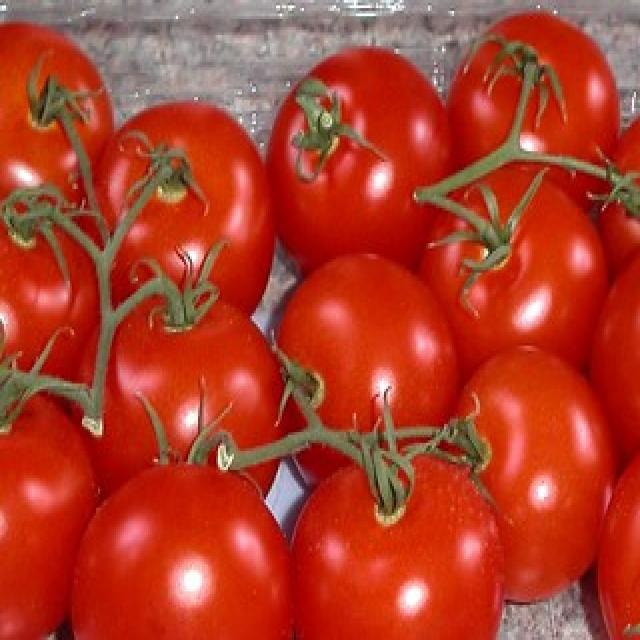Tomato: (435, 341, 625, 607), (69, 293, 298, 513), (274, 248, 463, 502), (74, 96, 275, 331), (264, 42, 460, 278), (287, 443, 507, 640), (419, 166, 616, 379), (72, 456, 286, 640), (454, 8, 625, 203), (0, 12, 110, 225)
